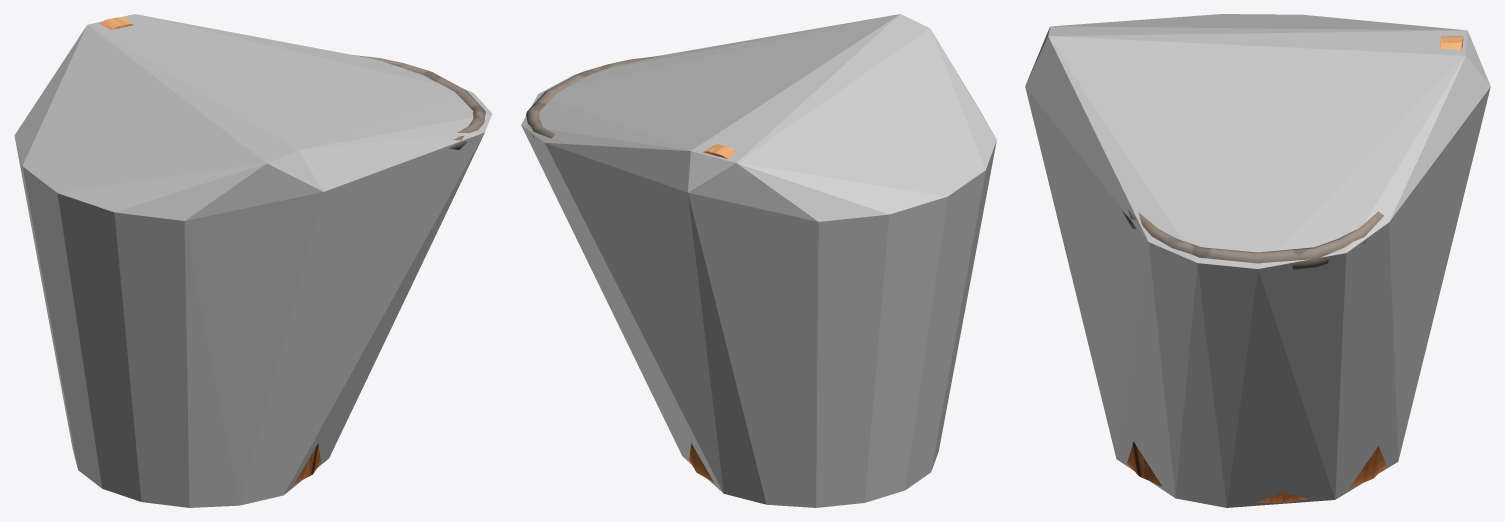
File: SM_BucketWooden01_1.fbx
3 views of the same model, side by side, from view 1: azimuth 30°, elevation 25°; view 2: azimuth 150°, elevation 25°; view 3: azimuth 270°, elevation 25° (orthographic). The views are drawn at different scales.
Parts seen in each view (by area): view 1: SM_BucketWooden01_1_ConvexHulls, SM_BucketWooden01_1; view 2: SM_BucketWooden01_1_ConvexHulls, SM_BucketWooden01_1; view 3: SM_BucketWooden01_1_ConvexHulls, SM_BucketWooden01_1.
Part boxes in pixels (box(x1,y1,x2,y2)): SM_BucketWooden01_1_ConvexHulls: box(14, 14, 492, 507); SM_BucketWooden01_1: box(99, 17, 485, 483); SM_BucketWooden01_1_ConvexHulls: box(521, 14, 996, 507); SM_BucketWooden01_1: box(526, 55, 735, 482); SM_BucketWooden01_1_ConvexHulls: box(1025, 14, 1490, 507); SM_BucketWooden01_1: box(1122, 36, 1463, 503).
Bounding box in the file's own units: 59.34 × 49.57 × 48.68.
Materials: 2 (1 with a texture image).
